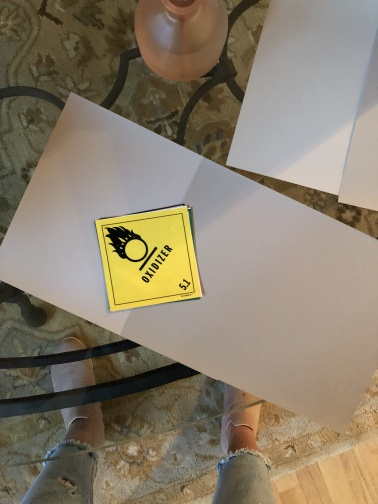Oxidizer: (95, 205, 202, 311)
